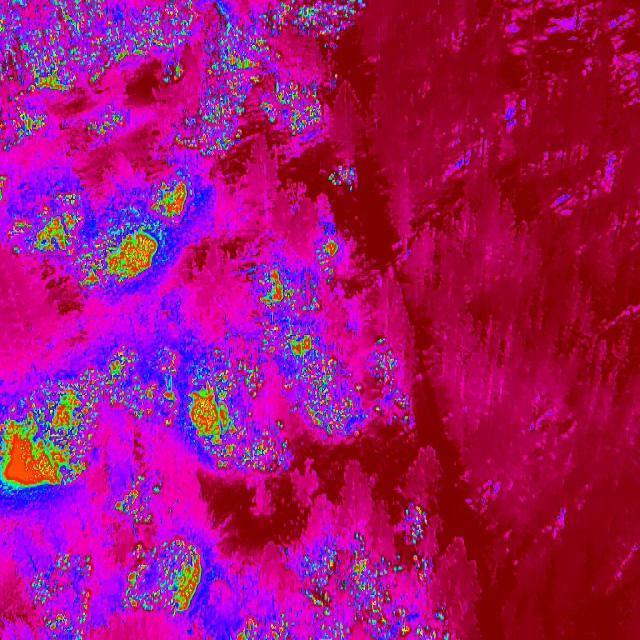fire: (26, 172, 212, 298), (298, 507, 451, 640), (0, 0, 196, 94), (98, 329, 262, 427), (0, 363, 93, 507), (123, 528, 212, 622), (203, 0, 258, 152), (260, 266, 338, 362), (288, 362, 367, 442), (30, 546, 96, 640), (258, 0, 369, 55), (258, 72, 332, 142), (368, 332, 416, 428), (186, 429, 290, 473), (113, 473, 167, 529), (0, 94, 49, 150), (225, 605, 298, 640), (88, 104, 135, 144), (175, 96, 204, 156), (311, 222, 344, 266), (326, 159, 361, 196)
